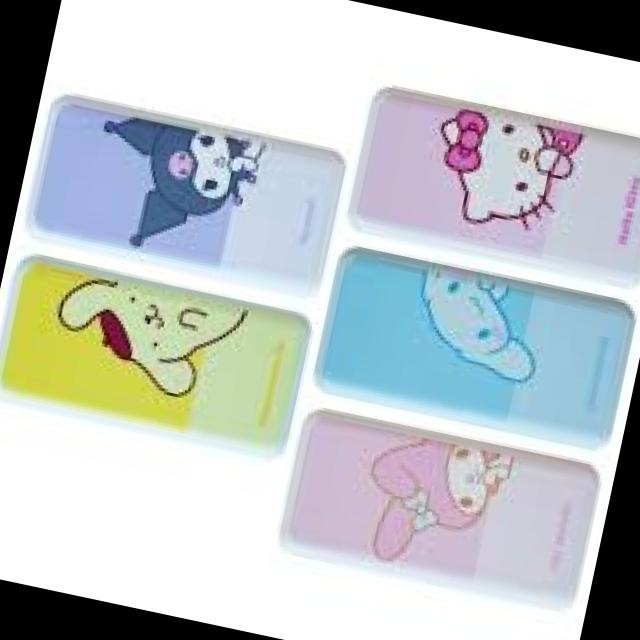power_bank: (271, 398, 609, 614), (308, 237, 640, 451), (0, 246, 321, 464), (22, 88, 350, 300), (337, 76, 640, 292)
